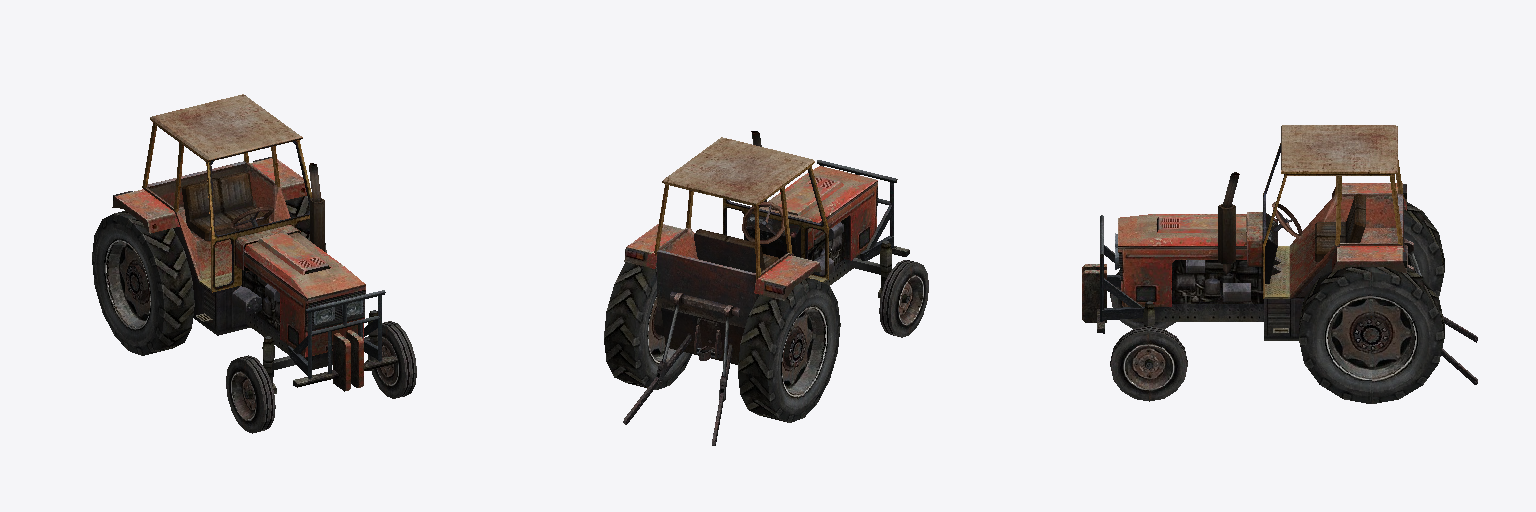
3 views of the same model, side by side, from view 1: azimuth 30°, elevation 25°; view 2: azimuth 150°, elevation 25°; view 3: azimuth 270°, elevation 25° (orthographic).
Parts seen in each view (by area): view 1: tractor; view 2: tractor; view 3: tractor.
Boxes of the visible parts, x1=… form: tractor: x1=92, y1=94, x2=416, y2=433; tractor: x1=604, y1=131, x2=928, y2=445; tractor: x1=1082, y1=125, x2=1477, y2=403.
Bounding box in the file's own units: 1.23 × 1.51 × 2.5.
1 materials, 1 textured.